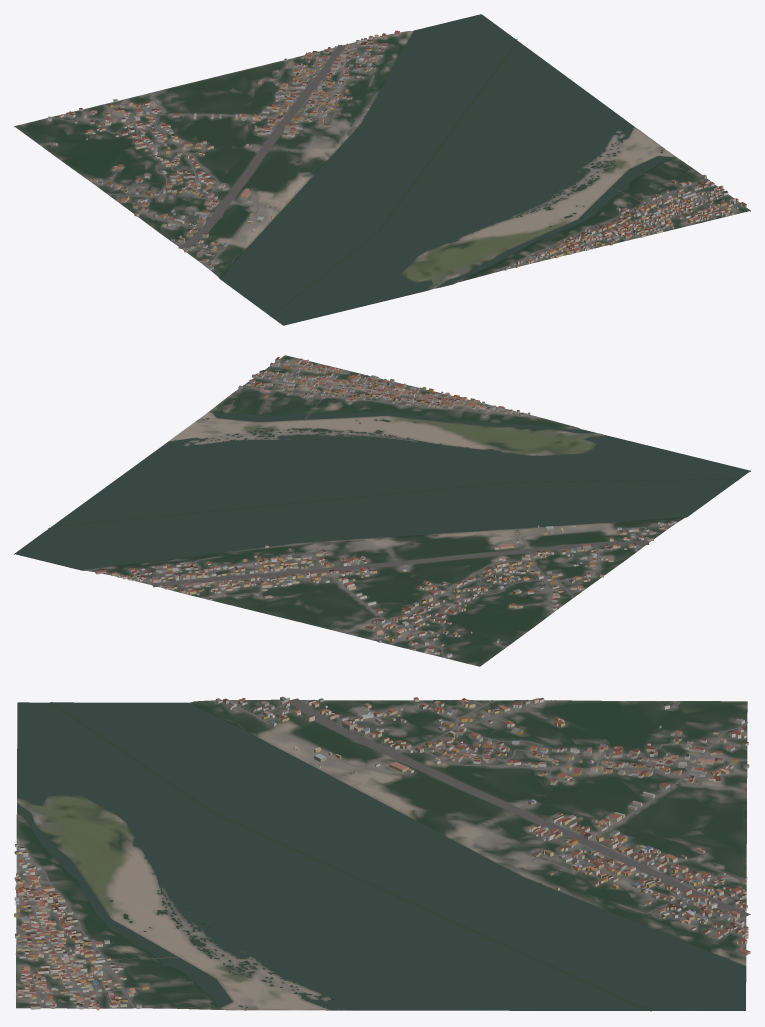
3 renders of one model, top to bottom at view 1: azimuth 30°, elevation 25°; view 2: azimuth 150°, elevation 25°; view 3: azimuth 270°, elevation 25°, orthographic. The views are drawn at different scales.
Visible parts, largest first — view 1: water, ground, buildings, roads; view 2: water, ground, buildings, roads; view 3: water, ground, buildings, roads.
Part boxes in pixels (left/top/right/bottom): water: left=221, top=14, right=672, bottom=325; ground: left=14, top=16, right=750, bottom=325; buildings: left=47, top=30, right=746, bottom=270; roads: left=40, top=35, right=739, bottom=271; water: left=15, top=411, right=749, bottom=569; ground: left=14, top=355, right=750, bottom=666; buildings: left=95, top=357, right=676, bottom=657; roads: left=106, top=359, right=673, bottom=658; water: left=17, top=702, right=745, bottom=1011; ground: left=16, top=699, right=747, bottom=1010; buildings: left=14, top=696, right=750, bottom=1010; roads: left=15, top=698, right=750, bottom=1008.
Bounding box in the file's own units: 1410 × 24.33 × 1415.
